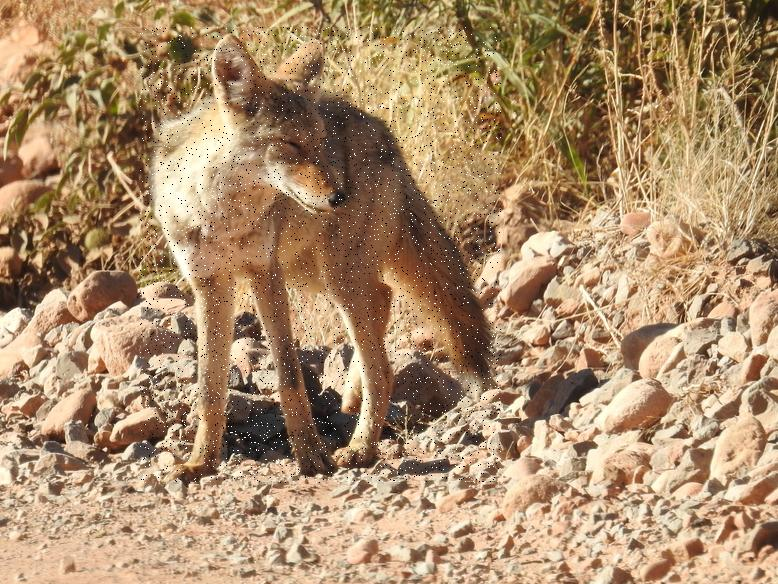Coyote: (140, 28, 501, 484)
